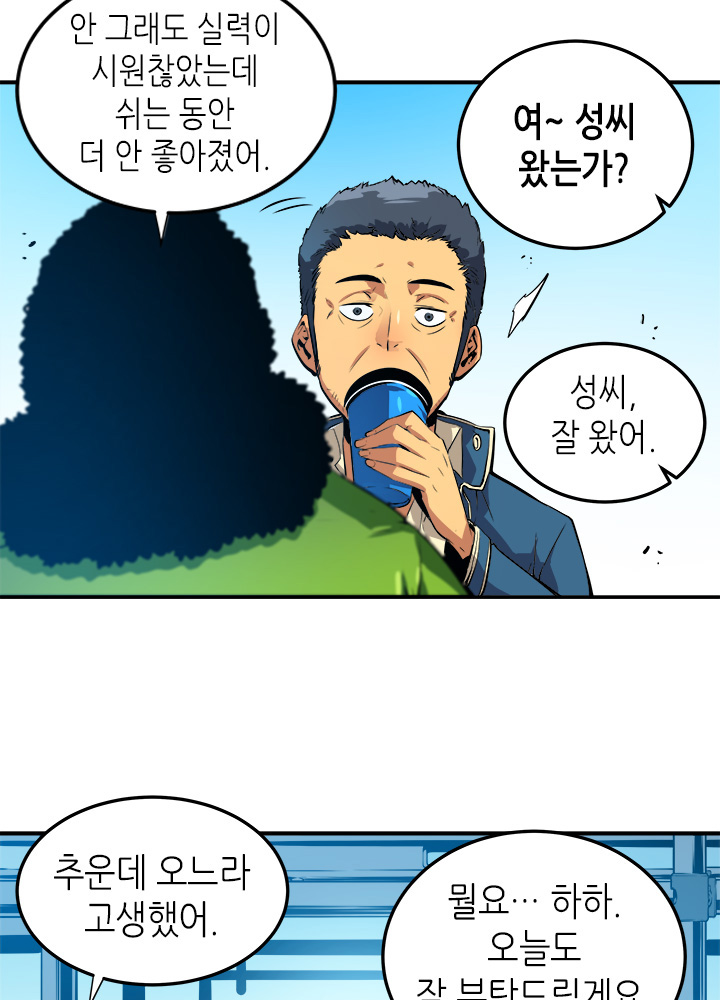dialog box: (1, 2, 358, 264), (412, 27, 717, 273), (3, 769, 317, 1000), (360, 809, 712, 1000), (472, 315, 720, 534)
text: (53, 2, 299, 195), (391, 867, 666, 1000), (31, 830, 268, 957), (481, 78, 658, 215), (529, 356, 672, 473)
